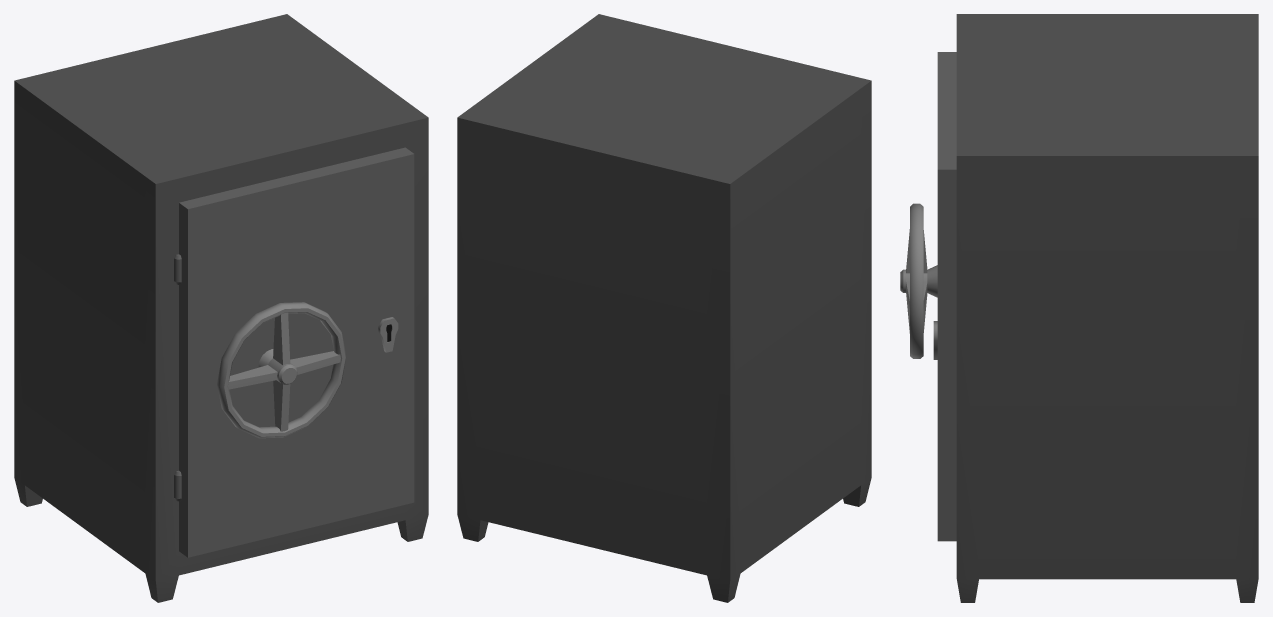
The model's file is safe.fbx.
3 renders of one model, left to right at view 1: azimuth 30°, elevation 25°; view 2: azimuth 150°, elevation 25°; view 3: azimuth 270°, elevation 25°, orthographic. The views are drawn at different scales.
Visible parts, largest first — view 1: Safe, Safe_Door, Safe_Wheel; view 2: Safe; view 3: Safe, Safe_Door, Safe_Wheel.
Boxes of the visible parts, x1,y1,x2,y2 form: Safe: (14, 14, 428, 602); Safe_Door: (174, 147, 414, 557); Safe_Wheel: (217, 302, 346, 438); Safe: (457, 14, 871, 602); Safe: (956, 14, 1258, 602); Safe_Door: (933, 52, 956, 541); Safe_Wheel: (900, 203, 937, 358).
Size of the model in its own units: 0.7834 by 1.16 by 0.8351.
